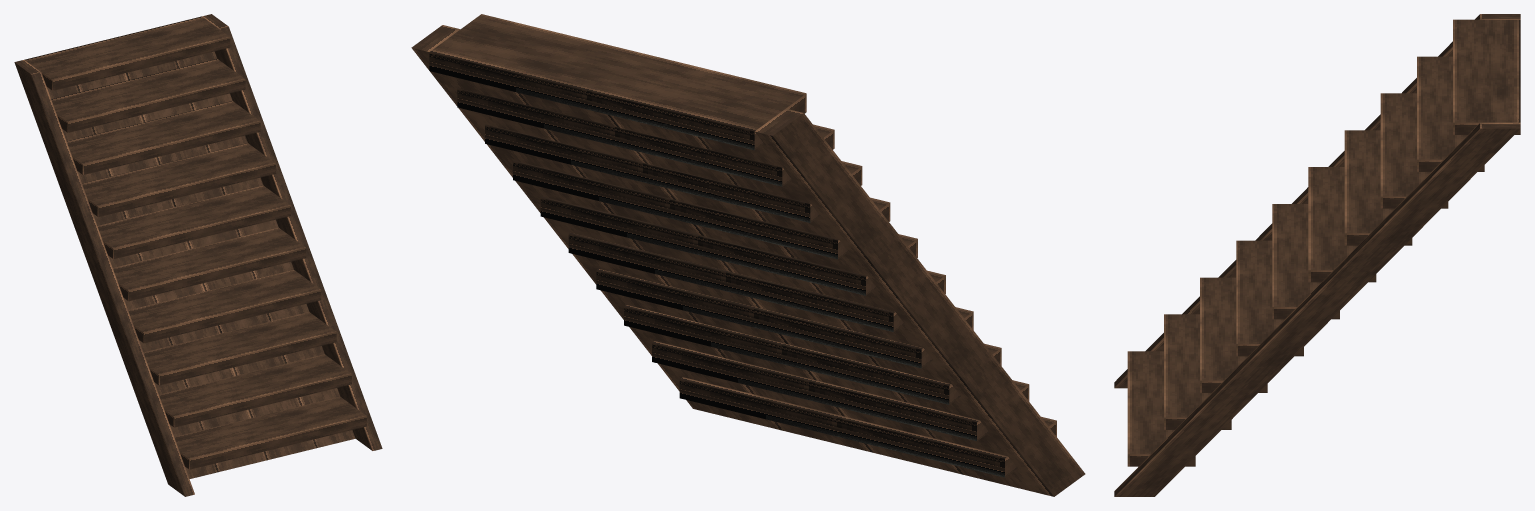
File: house_stairs_2x3.glb
The picture shows the model from 3 angles, left to right: view 1: azimuth 30°, elevation 25°; view 2: azimuth 150°, elevation 25°; view 3: azimuth 270°, elevation 25°; orthographic projection. The views are drawn at different scales.
Parts seen in each view (by area): view 1: house_stairs_2x3; view 2: house_stairs_2x3; view 3: house_stairs_2x3.
Part boxes in pixels (box(x1,y1,x2,y2)): house_stairs_2x3: box(14, 14, 382, 496); house_stairs_2x3: box(411, 14, 1085, 496); house_stairs_2x3: box(1114, 14, 1520, 496).
Bounding box in the file's own units: 2 × 3 × 3.
1 material, 1 textured.
